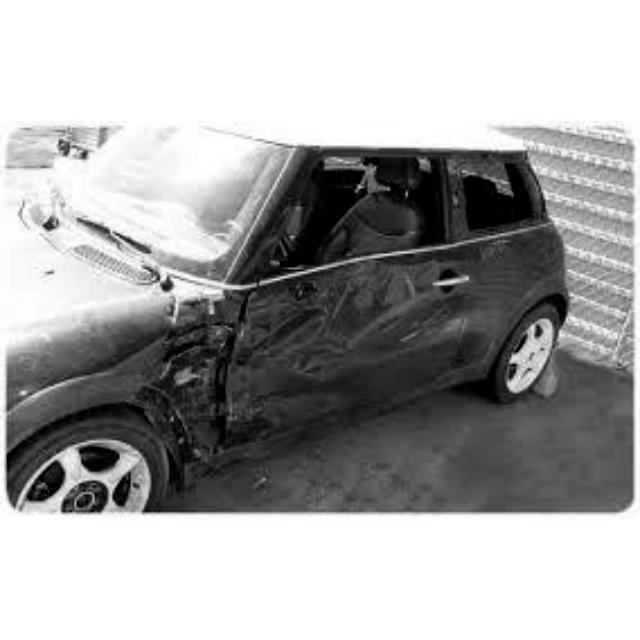doorouter-dent: (249, 247, 442, 429)
fender-dent: (86, 318, 236, 441)
